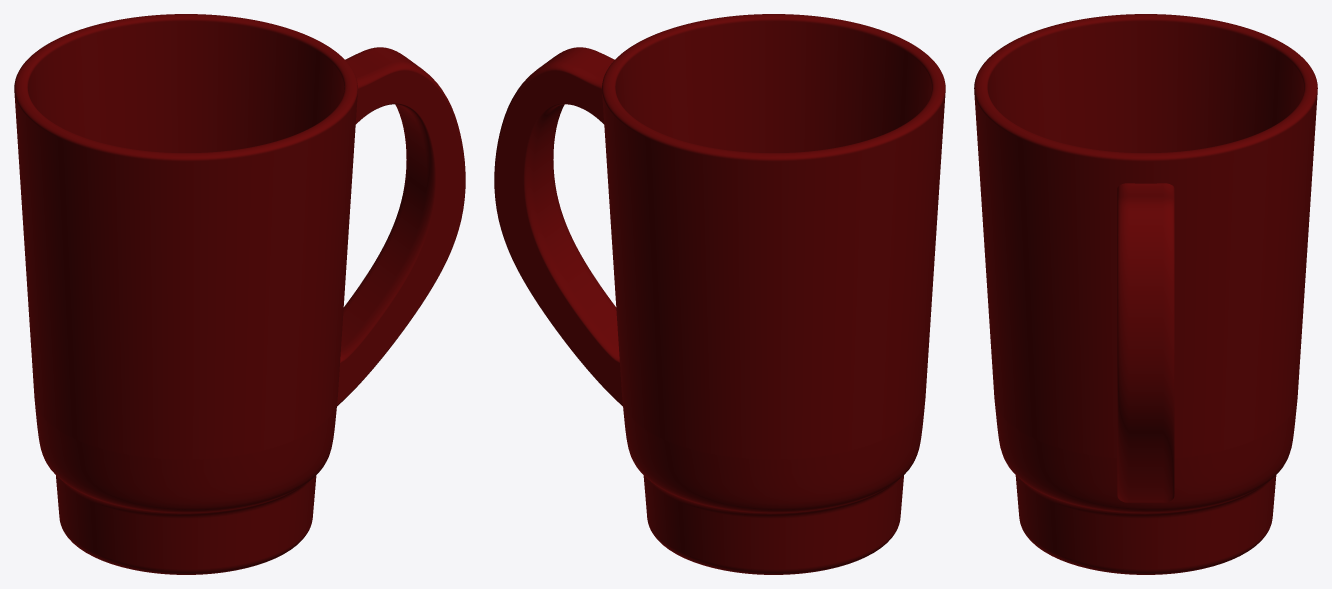
3 renders of one model, left to right at view 1: azimuth 30°, elevation 25°; view 2: azimuth 150°, elevation 25°; view 3: azimuth 270°, elevation 25°, orthographic.
Size of the model in its own units: 0.084 by 0.0848 by 0.06.
